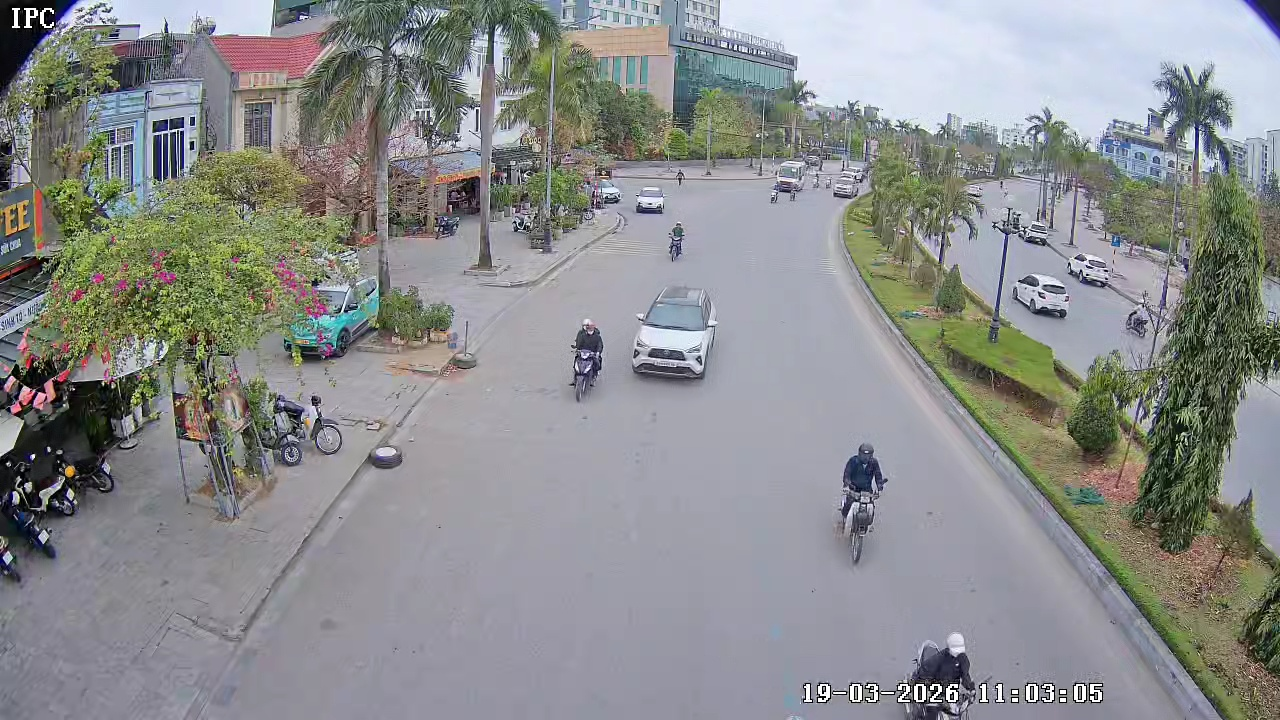bike: (829, 440, 890, 565), (270, 386, 344, 458)
car: (631, 284, 719, 380), (1013, 270, 1071, 319), (635, 187, 666, 215), (830, 174, 864, 199)
motorbike: (874, 608, 992, 719), (568, 317, 606, 402), (666, 220, 686, 261)
